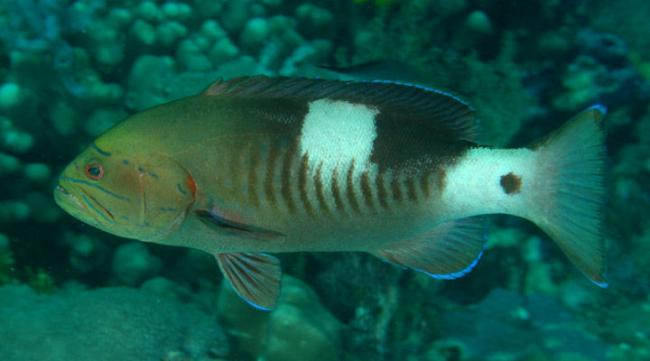fish: (53, 73, 610, 312)
